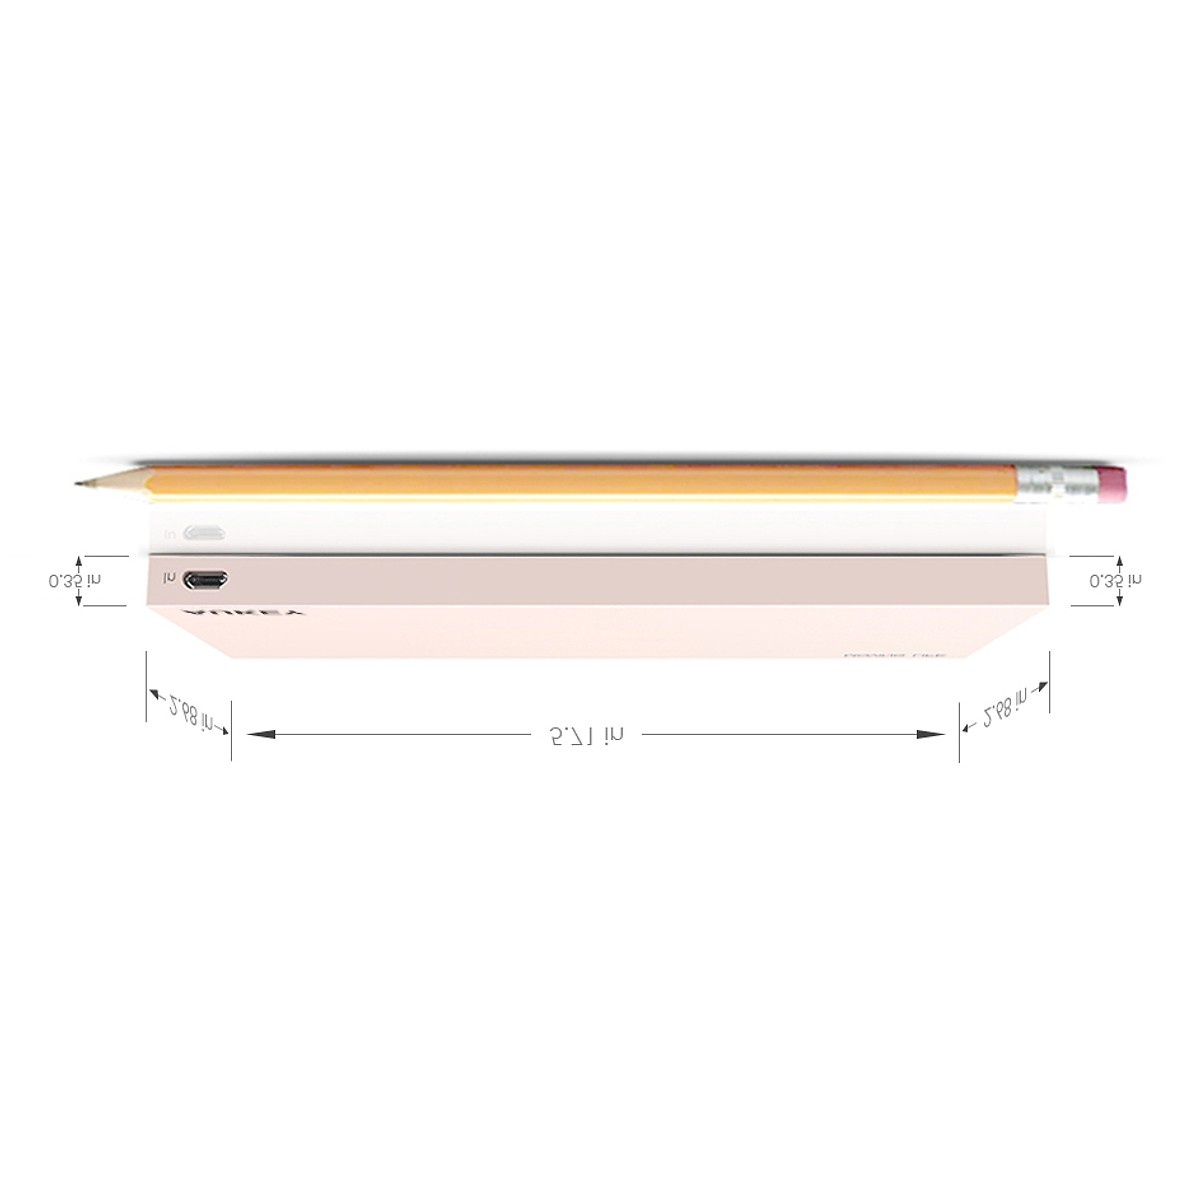Aukey: (157, 527, 364, 647)
